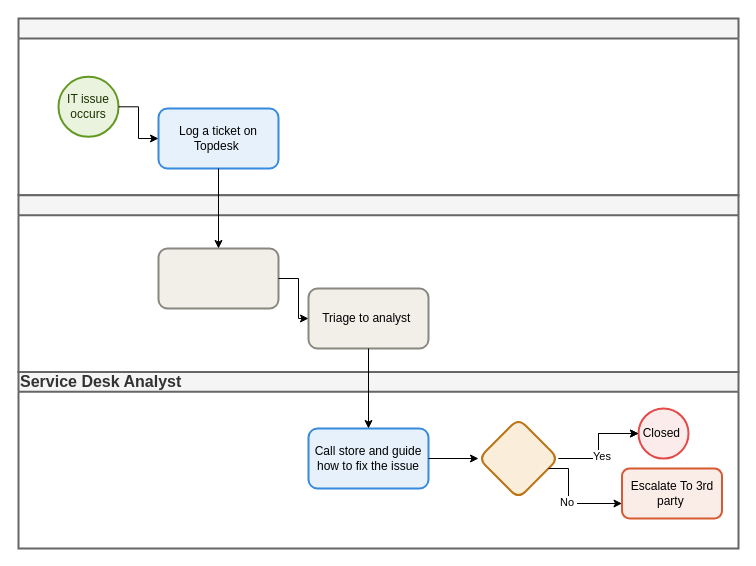
The diagram is 756 pixels wide and 566 high, and some of its shapes have lost their labels. The shapes that lost their labels are listed below. From the top down, each one's box as (x1, y1, x2, y2) in pixels, then its label:
(17, 17, 739, 196): Store Staff
(157, 247, 279, 309): Unassigned Queue
(17, 194, 739, 372): Topdesk
(477, 417, 559, 499): Resolved?
